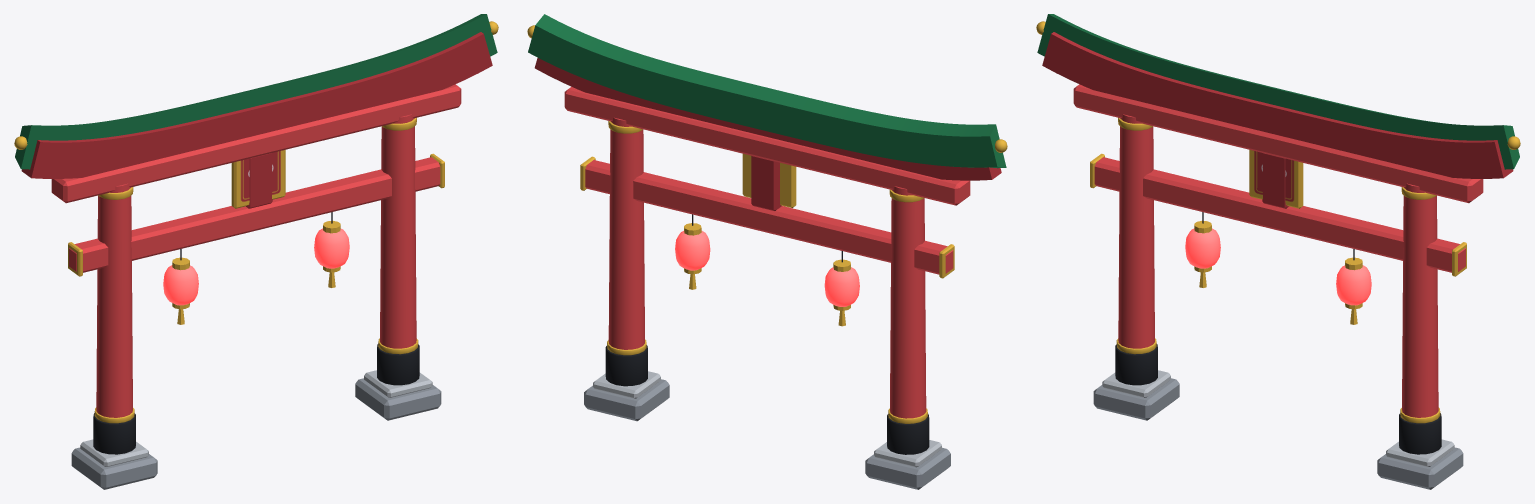
Rendered from portal_oriental_vermelho.glb.
3 views of the same model, side by side, from view 1: azimuth 30°, elevation 25°; view 2: azimuth 150°, elevation 25°; view 3: azimuth 330°, elevation 25° (orthographic).
Parts seen in each view (by area): view 1: portal_oriental_vermelho, lanterna_1, lanterna_2; view 2: portal_oriental_vermelho, lanterna_1, lanterna_2; view 3: portal_oriental_vermelho, lanterna_2, lanterna_1.
Boxes of the visible parts, bbox=[...] form: portal_oriental_vermelho: bbox=[14, 14, 498, 489]; lanterna_1: bbox=[163, 249, 198, 324]; lanterna_2: bbox=[314, 212, 349, 287]; portal_oriental_vermelho: bbox=[527, 14, 1007, 489]; lanterna_1: bbox=[824, 251, 859, 326]; lanterna_2: bbox=[675, 214, 710, 289]; portal_oriental_vermelho: bbox=[1036, 14, 1520, 489]; lanterna_2: bbox=[1336, 249, 1371, 324]; lanterna_1: bbox=[1185, 212, 1220, 287].
Bounding box in the file's own units: 7.99 × 5.88 × 0.95.
3 materials, 2 textured.
